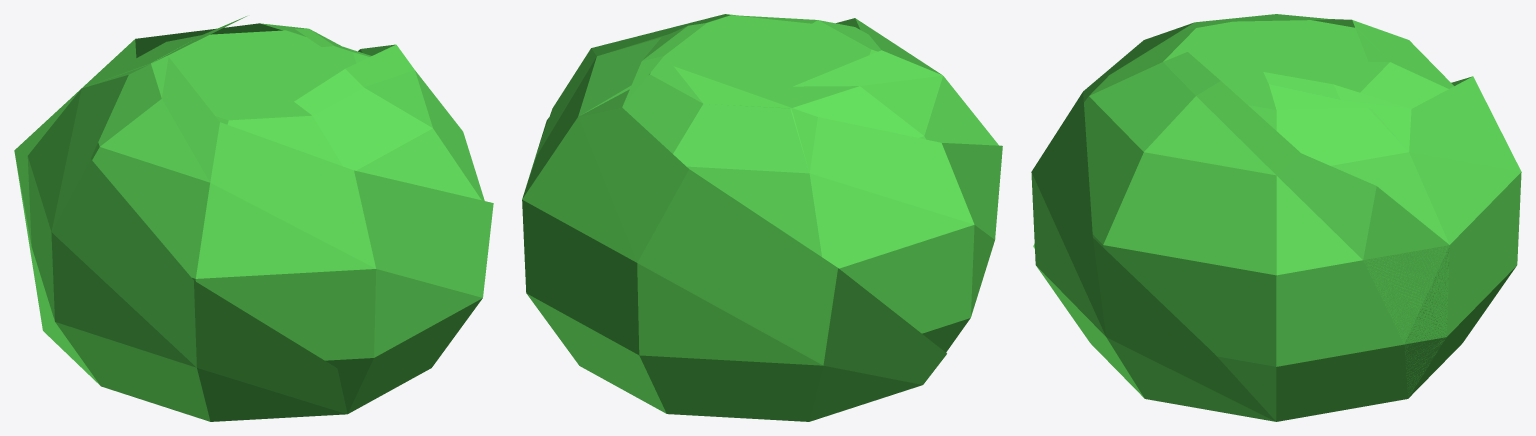
File: cabbage.fbx
3 renders of one model, left to right at view 1: azimuth 30°, elevation 25°; view 2: azimuth 150°, elevation 25°; view 3: azimuth 270°, elevation 25°, orthographic. The views are drawn at different scales.
Parts seen in each view (by area): view 1: Cylinder.045; view 2: Cylinder.045; view 3: Cylinder.045.
Part boxes in pixels (x1=…): Cylinder.045: x1=14, y1=16, x2=493, y2=421; Cylinder.045: x1=522, y1=14, x2=1002, y2=421; Cylinder.045: x1=1031, y1=14, x2=1521, y2=421.
Size of the model in its own units: 18.58 by 14.41 by 18.58.
